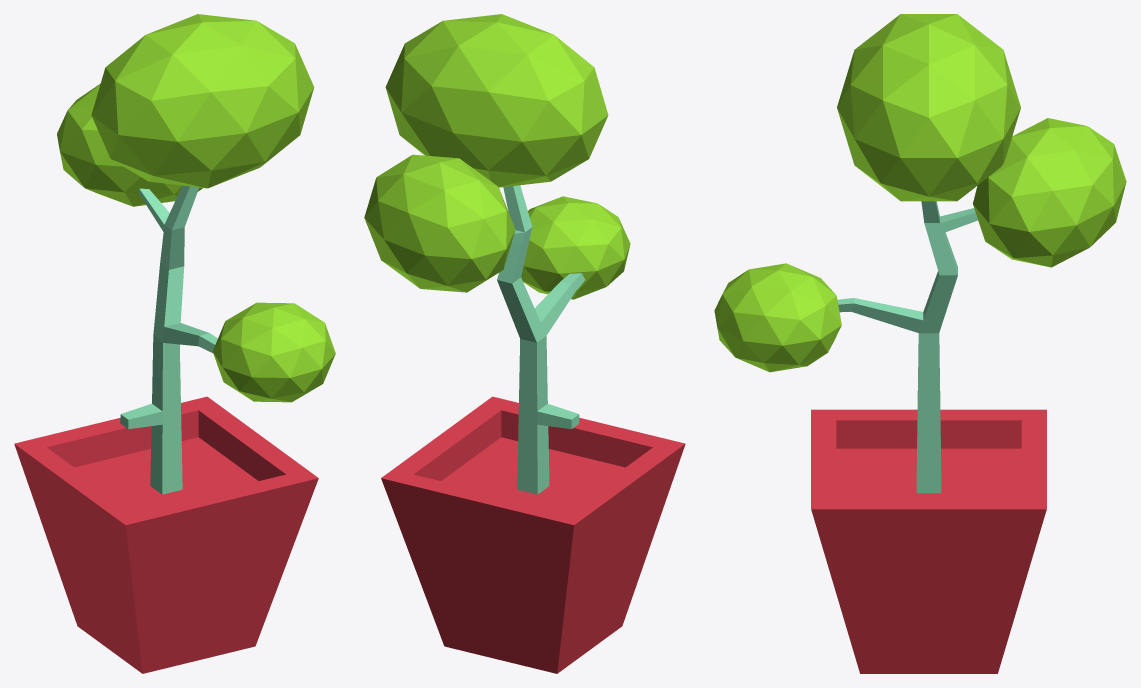
File: plant.fbx
3 views of the same model, side by side, from view 1: azimuth 30°, elevation 25°; view 2: azimuth 150°, elevation 25°; view 3: azimuth 270°, elevation 25° (orthographic). The views are drawn at different scales.
Parts seen in each view (by area): view 1: Cube, Icosphere, Cube.001, Icosphere.002, Icosphere.001; view 2: Cube, Icosphere, Icosphere.001, Cube.001, Icosphere.002; view 3: Cube, Icosphere, Icosphere.001, Icosphere.002, Cube.001.
Part boxes in pixels (bbox=[...]): Cube: bbox=[14, 396, 318, 673]; Icosphere: bbox=[91, 14, 314, 188]; Cube.001: bbox=[120, 185, 217, 494]; Icosphere.002: bbox=[212, 302, 335, 402]; Icosphere.001: bbox=[57, 83, 202, 206]; Cube: bbox=[381, 396, 685, 673]; Icosphere: bbox=[385, 14, 608, 187]; Icosphere.001: bbox=[364, 154, 515, 292]; Cube.001: bbox=[497, 185, 585, 494]; Icosphere.002: bbox=[521, 196, 630, 299]; Cube: bbox=[811, 409, 1046, 673]; Icosphere: bbox=[837, 14, 1020, 201]; Icosphere.001: bbox=[973, 118, 1126, 267]; Icosphere.002: bbox=[714, 263, 841, 372]; Cube.001: bbox=[837, 201, 977, 493].
Bounding box in the file's own units: 221 × 554 × 323.
